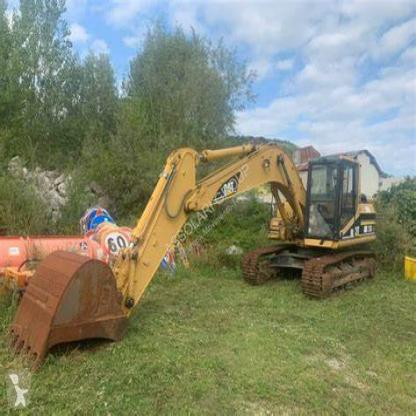excavator: (9, 119, 394, 368)
